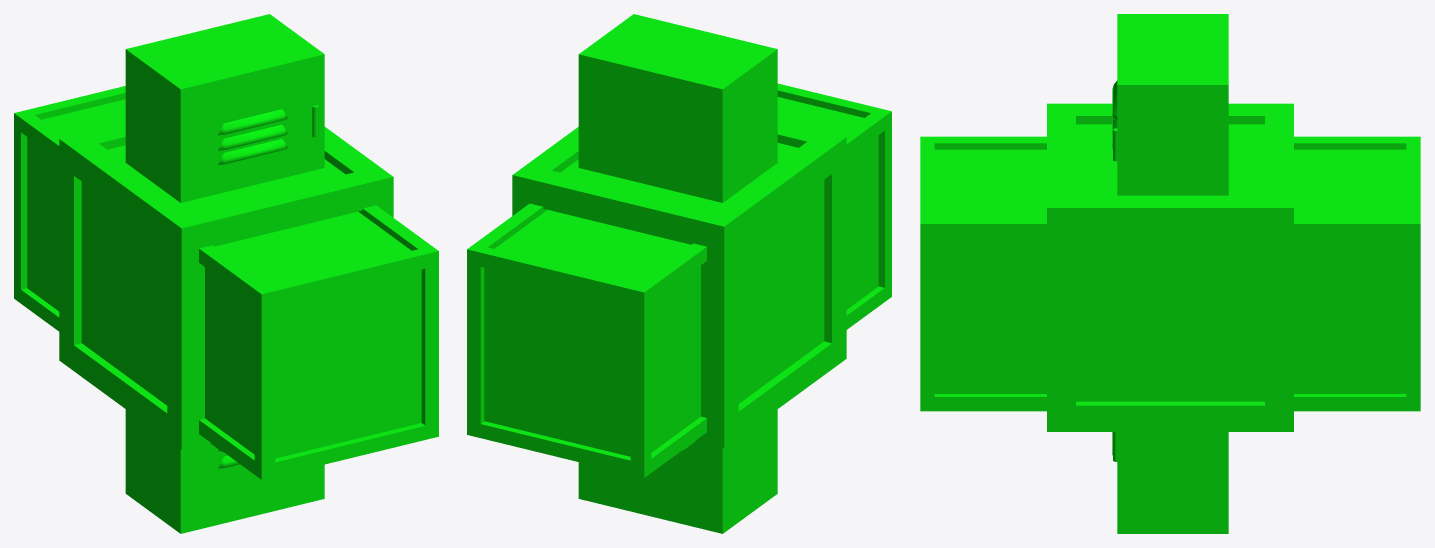
File: Props.fbx
3 renders of one model, left to right at view 1: azimuth 30°, elevation 25°; view 2: azimuth 150°, elevation 25°; view 3: azimuth 270°, elevation 25°, orthographic.
Visible parts, largest first — view 1: Big_Box_01, Big_Box_02, Locker; view 2: Big_Box_01, Big_Box_02, Locker; view 3: Big_Box_02, Big_Box_01, Locker.
Boxes of the visible parts, left/top/right/bottom form: Big_Box_01: left=14, top=86, right=438, bottom=479; Big_Box_02: left=59, top=123, right=393, bottom=452; Locker: left=125, top=14, right=324, bottom=533; Big_Box_01: left=467, top=83, right=891, bottom=477; Big_Box_02: left=512, top=120, right=846, bottom=450; Locker: left=578, top=14, right=777, bottom=533; Big_Box_02: left=1047, top=103, right=1293, bottom=431; Big_Box_01: left=920, top=136, right=1420, bottom=411; Locker: left=1112, top=14, right=1228, bottom=533.
Bounding box in the file's own units: 77.69 × 157 × 156.
